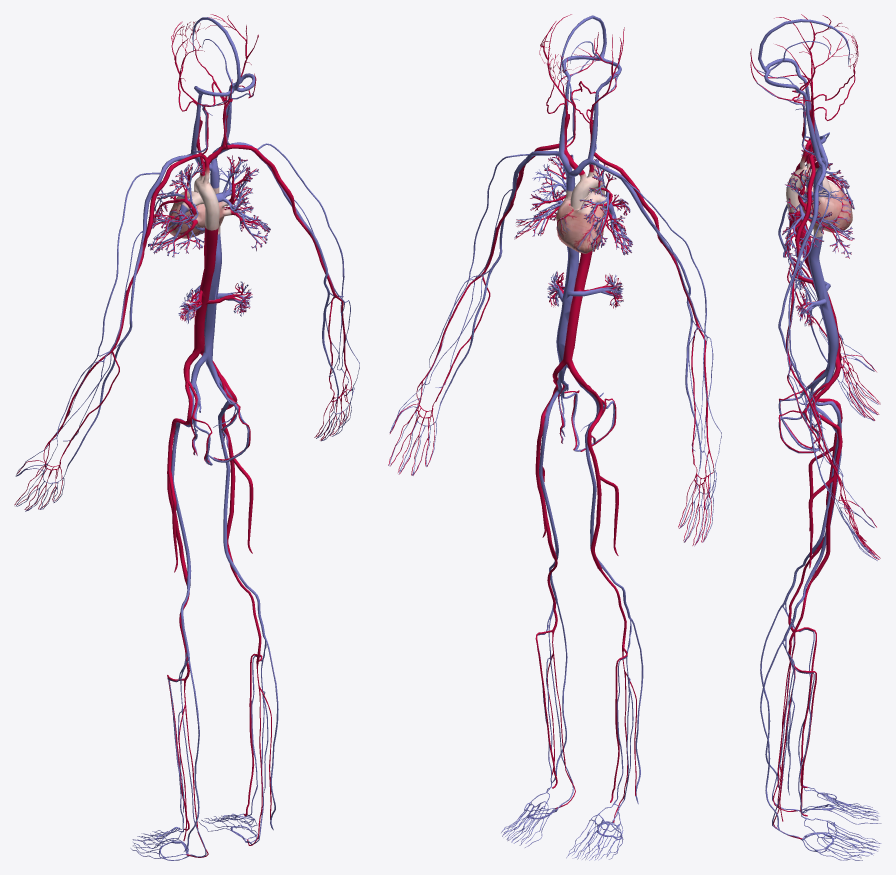
The model's file is circulation.glb.
3 renders of one model, left to right at view 1: azimuth 30°, elevation 25°; view 2: azimuth 150°, elevation 25°; view 3: azimuth 270°, elevation 25°, orthographic. The views are drawn at different scales.
Parts seen in each view (by area): view 1: circulation; view 2: circulation; view 3: circulation.
Boxes of the visible parts, left/top/right/bottom form: circulation: left=14, top=14, right=359, bottom=860; circulation: left=388, top=14, right=721, bottom=860; circulation: left=750, top=14, right=881, bottom=860.
Size of the model in its own units: 0.7298 by 1.77 by 0.2586.
1 material, 1 textured.
